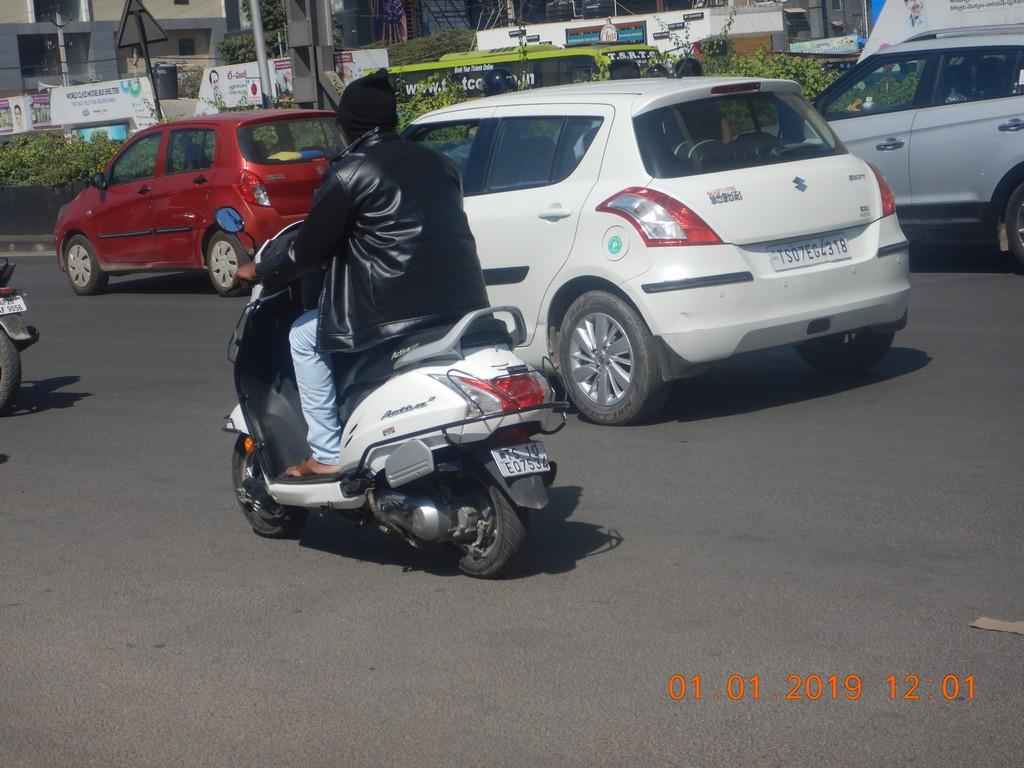plate: (495, 444, 552, 478)
